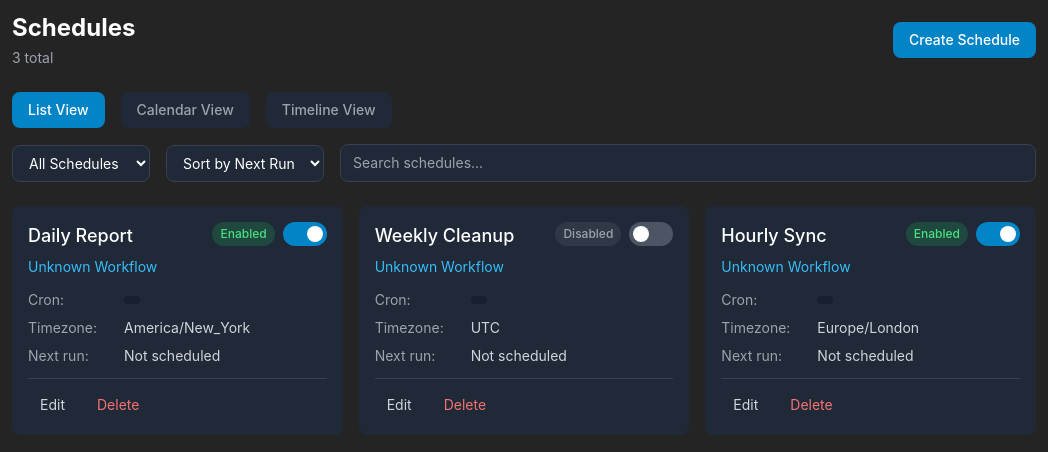
Test: Schedules Page Integration Tests › Filtering › should filter by disabled status
The width and height of the screenshot is (1048, 452).
# Use getByLabelText to target the correct select
Select "Disabled Only" in the 1st dropdown named "Status" at (81, 163), box [12,144,150,182]
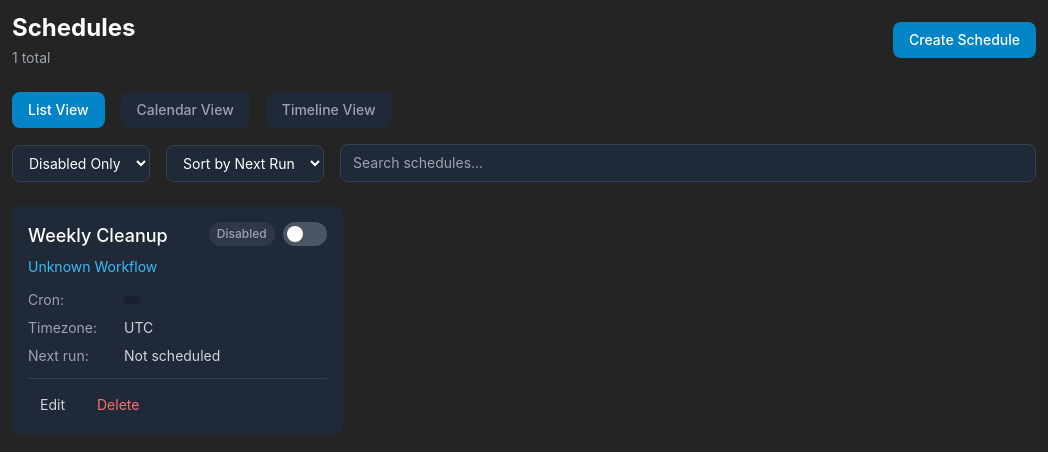
Expected: the heading "Weekly Cleanup" is shown, [28,225,168,246]
Expected: the text "1 total" is shown, [12,49,50,66]
Expected: the heading "Daily Report" is gone
